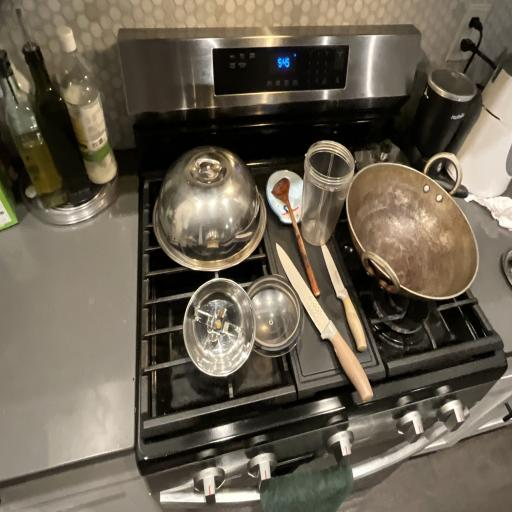Pan: (338, 138, 475, 331)
Stove: (114, 66, 507, 468)
knife: (265, 237, 378, 423), (313, 238, 379, 354)
